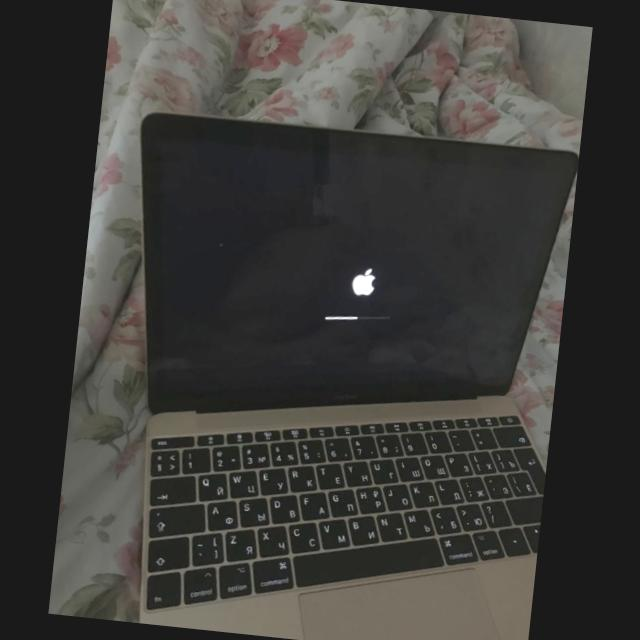laptop: (139, 114, 578, 640)
